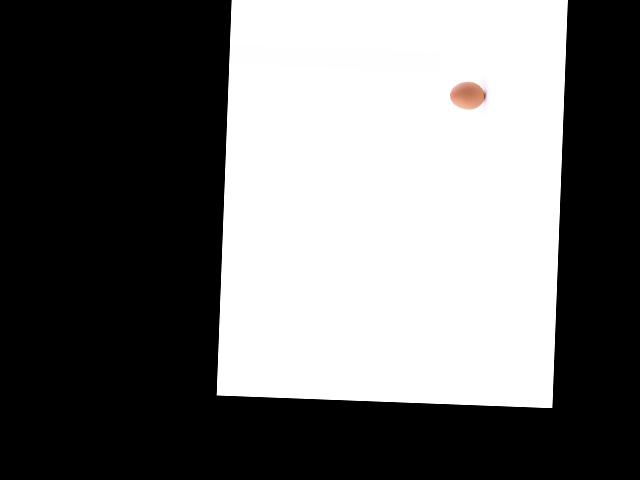egg: (449, 80, 485, 109)
